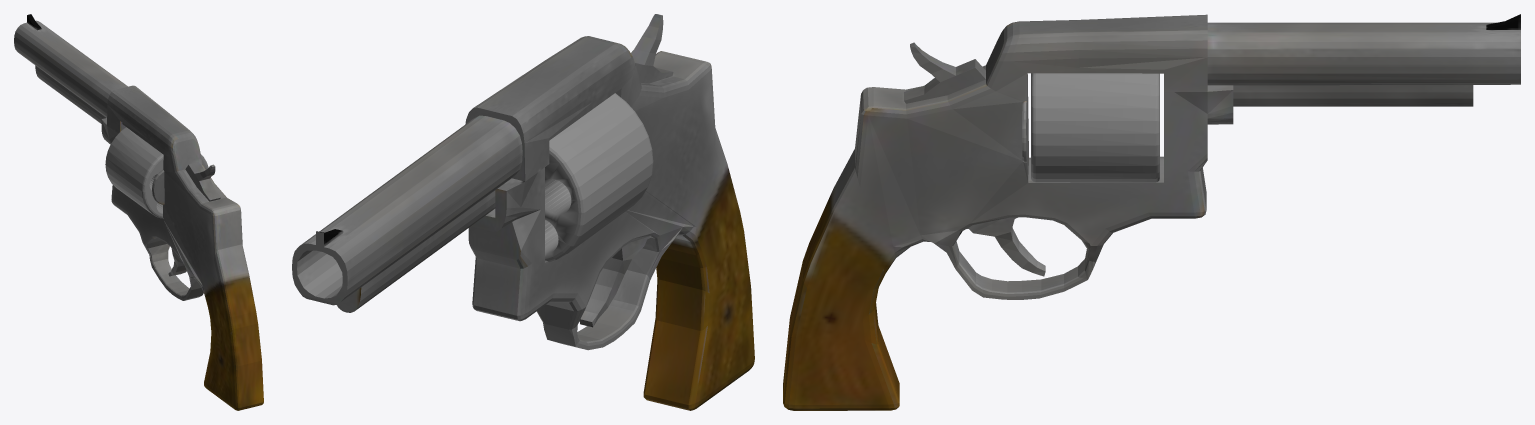
The model's file is magnum.glb.
The picture shows the model from 3 angles, left to right: view 1: azimuth 30°, elevation 25°; view 2: azimuth 150°, elevation 25°; view 3: azimuth 270°, elevation 25°; orthographic projection. The views are drawn at different scales.
Parts seen in each view (by area): view 1: magnum.001, armory; view 2: magnum.001, armory; view 3: magnum.001, armory.
Part boxes in pixels (left/top/right/bottom): magnum.001: left=14, top=14, right=263, bottom=410; armory: left=105, top=127, right=208, bottom=218; magnum.001: left=292, top=14, right=754, bottom=410; armory: left=545, top=93, right=653, bottom=262; magnum.001: left=783, top=14, right=1520, bottom=410; armory: left=1031, top=73, right=1159, bottom=182.
Size of the model in its own units: 0.3149 by 1.04 by 1.8.
2 materials, 1 textured.
